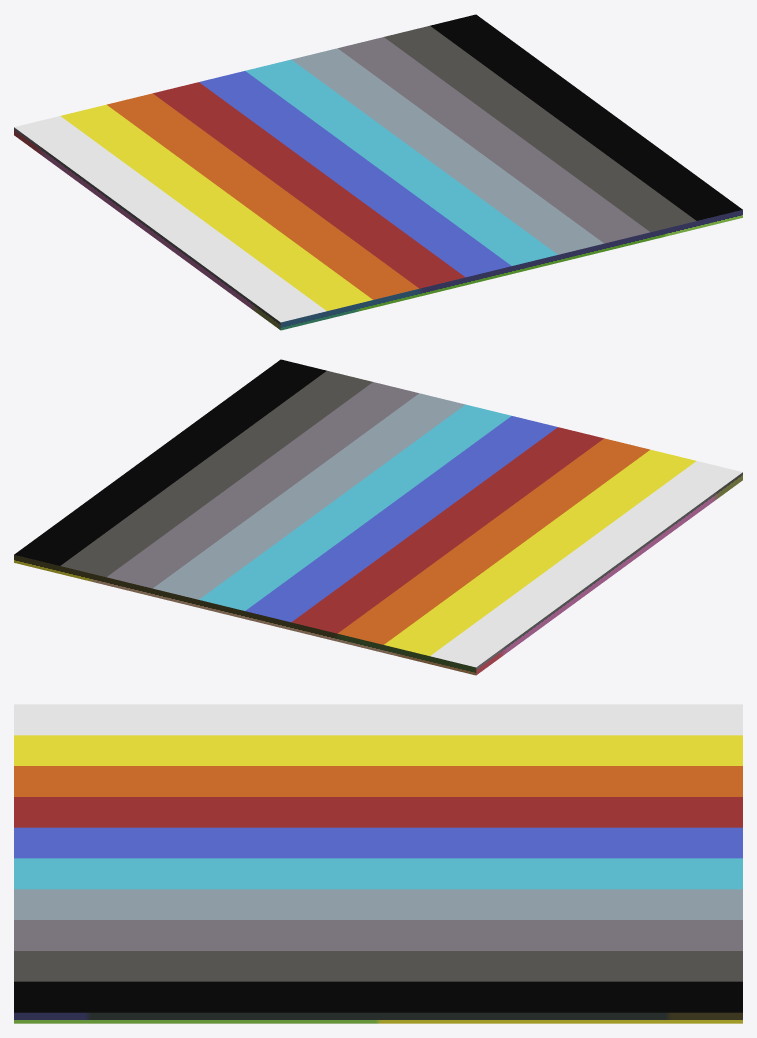
File: Piso.fbx
3 views of the same model, one above another, from view 1: azimuth 30°, elevation 25°; view 2: azimuth 150°, elevation 25°; view 3: azimuth 270°, elevation 25° (orthographic). The views are drawn at different scales.
Visible parts, largest first — view 1: Cube; view 2: Cube; view 3: Cube.
Part boxes in pixels (x1,y1,x2,y2): Cube: [14, 14, 742, 330]; Cube: [14, 359, 742, 675]; Cube: [14, 704, 742, 1023].
Size of the model in its own units: 600 by 10 by 600.
1 material, 1 textured.
